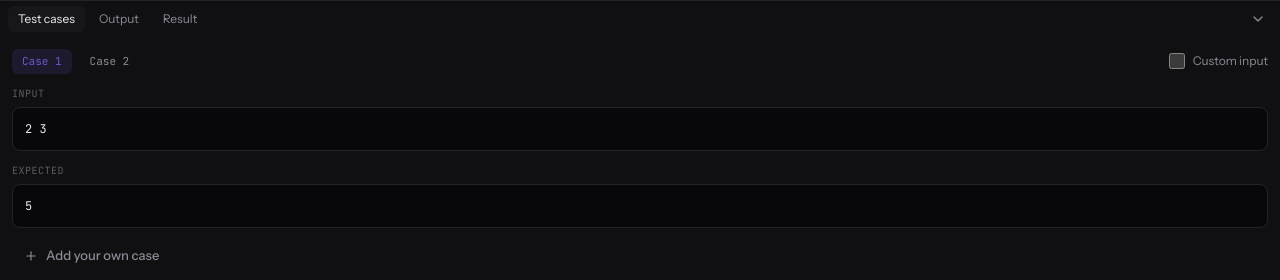
Scenario: ConsolePanel › collapses and restores the console
The image size is (1280, 280).
What coordinates should you click on to do the following:
click the button named "collapse console"
I would click on:
 (1258, 19)
Its box is [1244,5,1272,33].
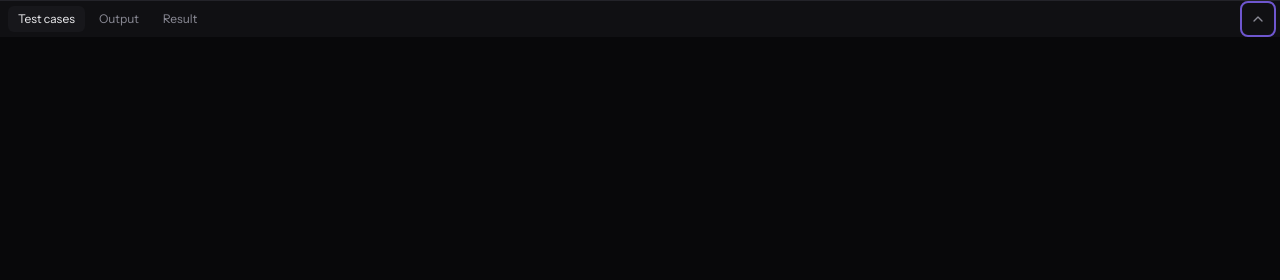
Expected: the button named "expand console" is shown, [1244,5,1272,33]
